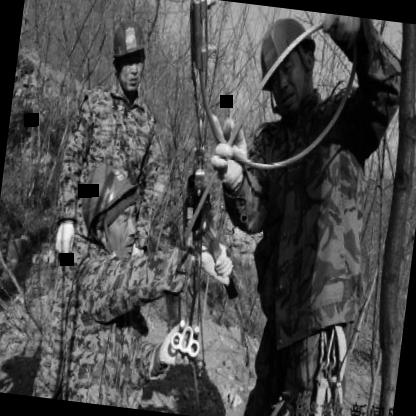helmet: (242, 4, 333, 126), (74, 150, 152, 258), (102, 11, 152, 98)
